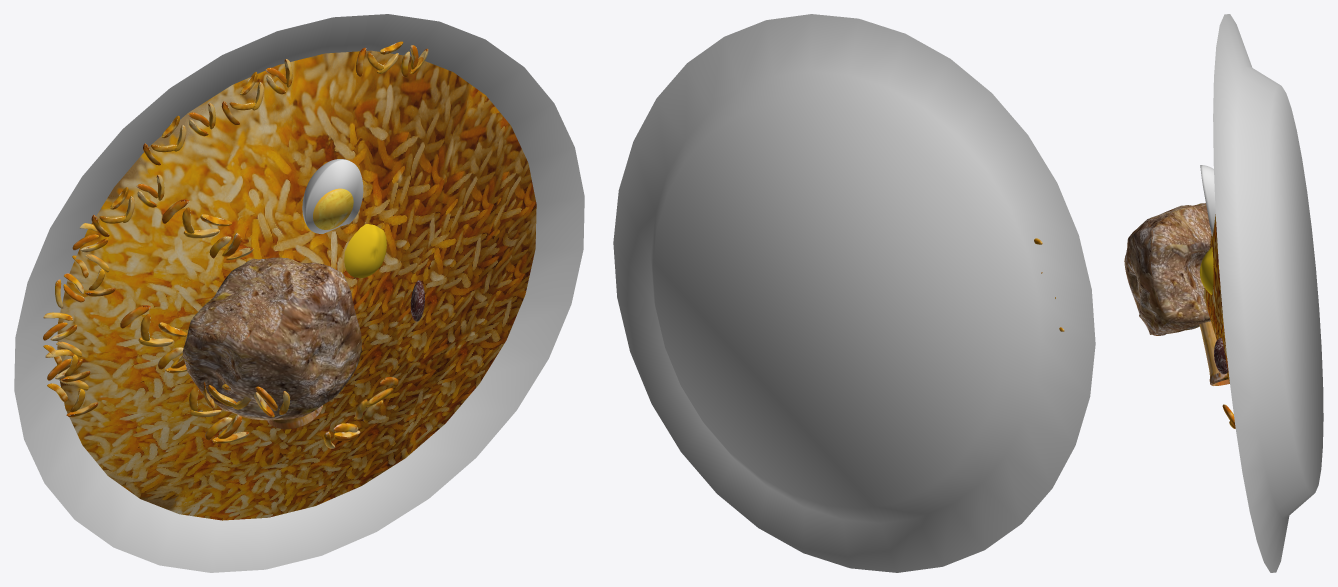
The model's file is smmtnbryani-v2.glb.
The picture shows the model from 3 angles, left to right: view 1: azimuth 30°, elevation 25°; view 2: azimuth 150°, elevation 25°; view 3: azimuth 270°, elevation 25°; orthographic projection. The views are drawn at different scales.
Parts seen in each view (by area): view 1: Cone, Circle.002, Cube, Sphere, Sphere.001, Plane.026, Plane.025, Plane.027, Plane.004, Plane.011, Plane.005, Plane.012 (+5 smaller); view 2: Circle.002; view 3: Circle.002, Cube, Cone, Cylinder, Sphere, Sphere.001, Sphere.002.
Part boxes in pixels (bbox=[...]): Cone: bbox=[57, 50, 536, 520]; Circle.002: bbox=[14, 14, 584, 572]; Cube: bbox=[182, 257, 361, 420]; Sphere: bbox=[302, 159, 363, 233]; Sphere.001: bbox=[344, 224, 386, 278]; Plane.026: bbox=[162, 199, 253, 259]; Plane.025: bbox=[120, 305, 187, 373]; Plane.027: bbox=[323, 377, 398, 448]; Plane.004: bbox=[45, 349, 98, 417]; Plane.011: bbox=[221, 59, 292, 124]; Plane.005: bbox=[43, 312, 90, 382]; Plane.012: bbox=[356, 41, 428, 77]; Circle.002: bbox=[613, 14, 1095, 572]; Circle.002: bbox=[1213, 14, 1323, 572]; Cube: bbox=[1124, 203, 1211, 335]; Cone: bbox=[1203, 214, 1229, 383]; Cylinder: bbox=[1199, 321, 1229, 385]; Sphere: bbox=[1200, 165, 1215, 235]; Sphere.001: bbox=[1199, 247, 1213, 294]; Sphere.002: bbox=[1214, 338, 1227, 374].
Size of the model in its own units: 7.81 by 7.77 by 2.77.
21 materials, 18 textured.
